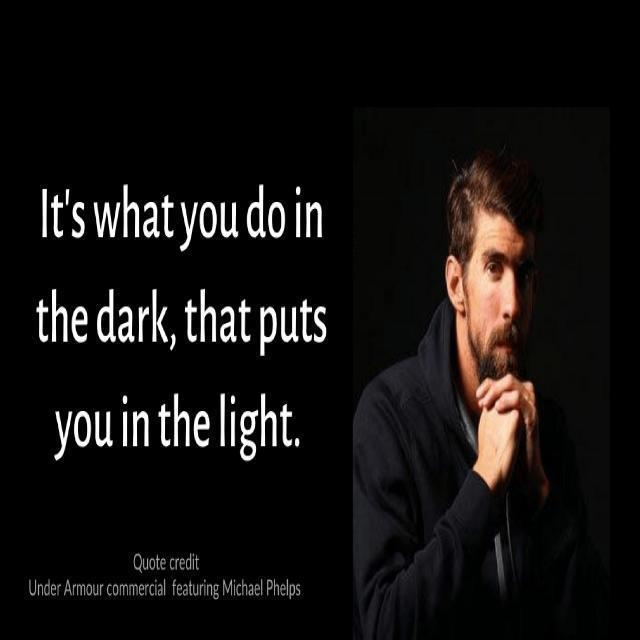No_BreathingApparatus: (459, 310, 546, 372)
No_Glove: (465, 373, 543, 486)
No_Goggles: (469, 237, 526, 287)
No_Helmet: (418, 149, 561, 232)
Person: (318, 134, 612, 640)
